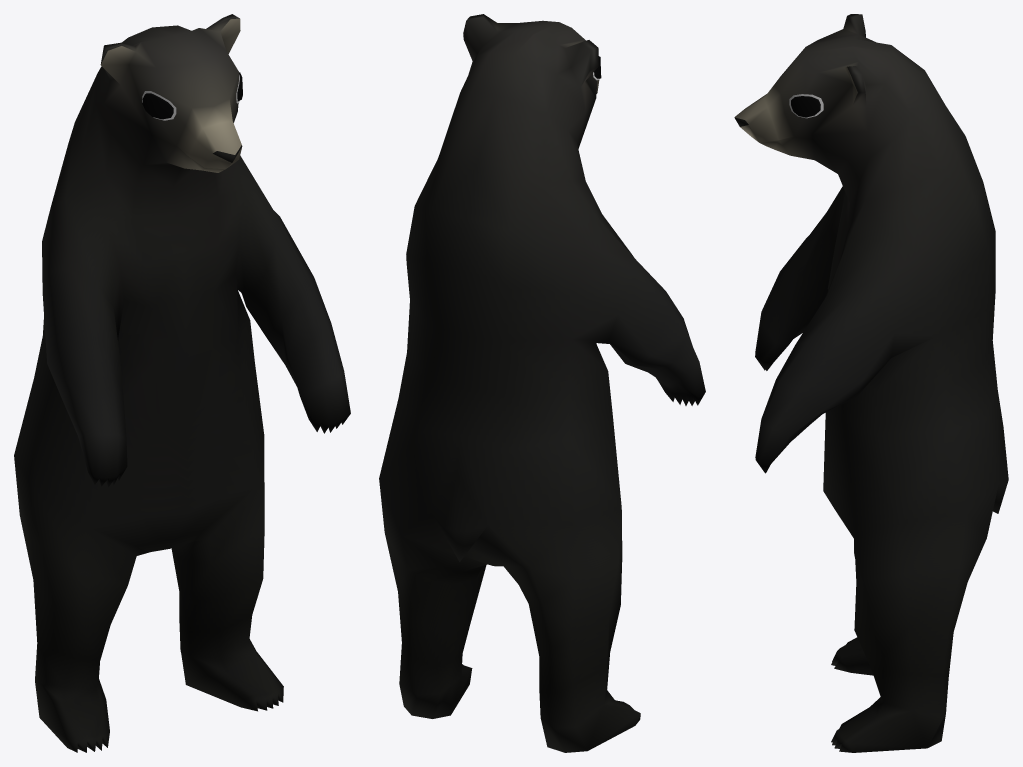
The model's file is animals-animals-blackbear_v1.glb.
3 renders of one model, left to right at view 1: azimuth 30°, elevation 25°; view 2: azimuth 150°, elevation 25°; view 3: azimuth 270°, elevation 25°, orthographic. The views are drawn at different scales.
Visible parts, largest first — view 1: BlackBear_v1; view 2: BlackBear_v1; view 3: BlackBear_v1.
Boxes of the visible parts, x1=… form: BlackBear_v1: x1=14, y1=14, x2=350, y2=752; BlackBear_v1: x1=379, y1=14, x2=705, y2=752; BlackBear_v1: x1=734, y1=14, x2=1008, y2=752.
Size of the model in its own units: 0.8159 by 2.08 by 0.7802.
